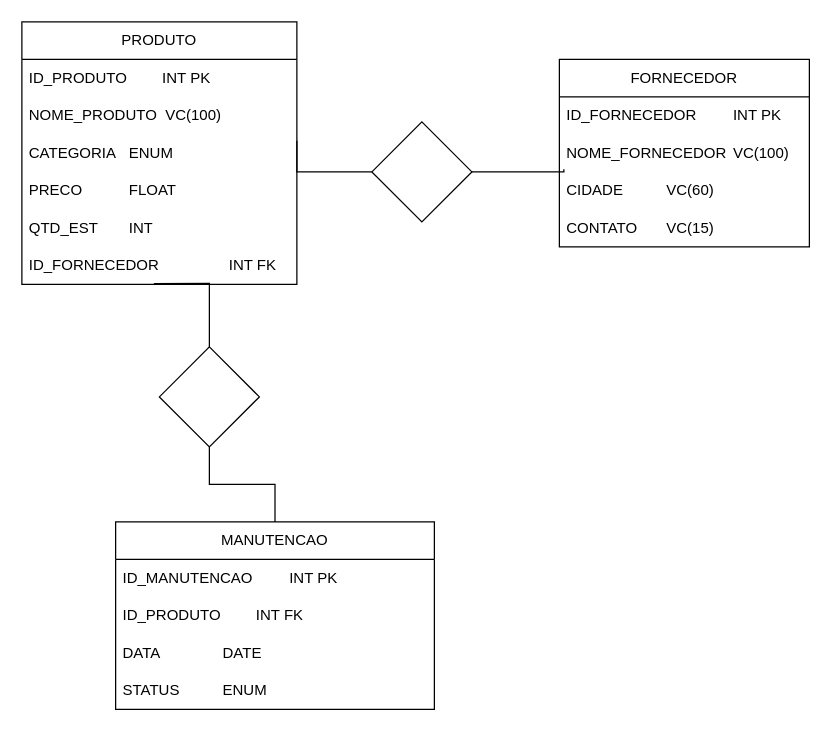
Image size: 831x731. Some labels were removed from this diagram. The shapes that lost their labels are listed below. From the top down, each one's centre as x and y in pixels, then its label:
At [421,171]: "POSSUI".
At [208,396]: "CONTEM".
